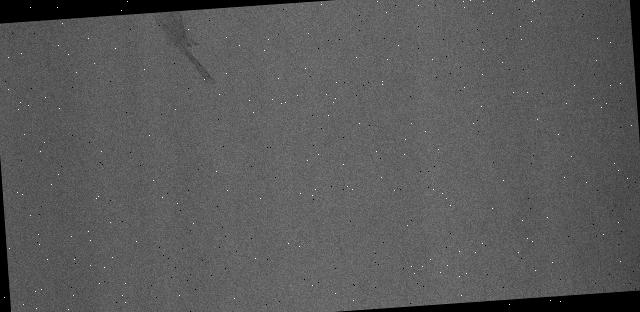water_spot: (146, 7, 232, 96)
